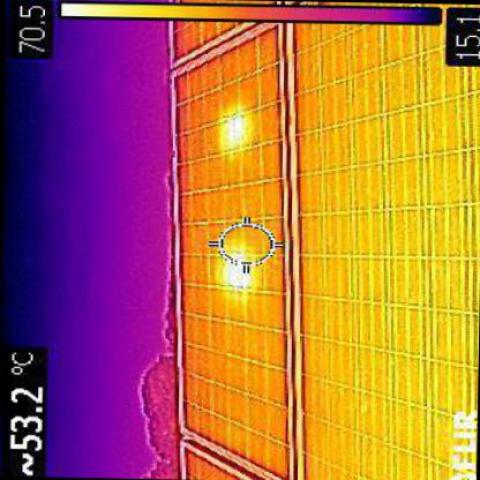fault: (223, 257, 248, 283), (224, 116, 248, 142)
